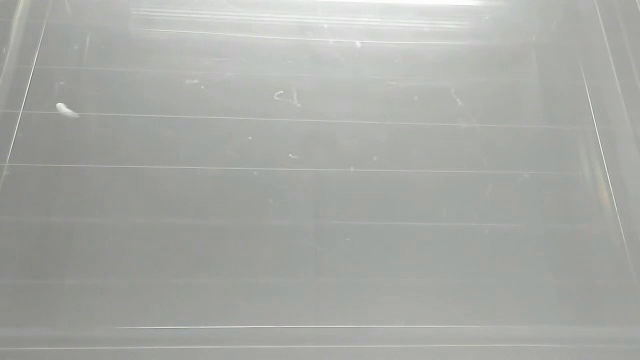alpha: (53, 100, 82, 122)
